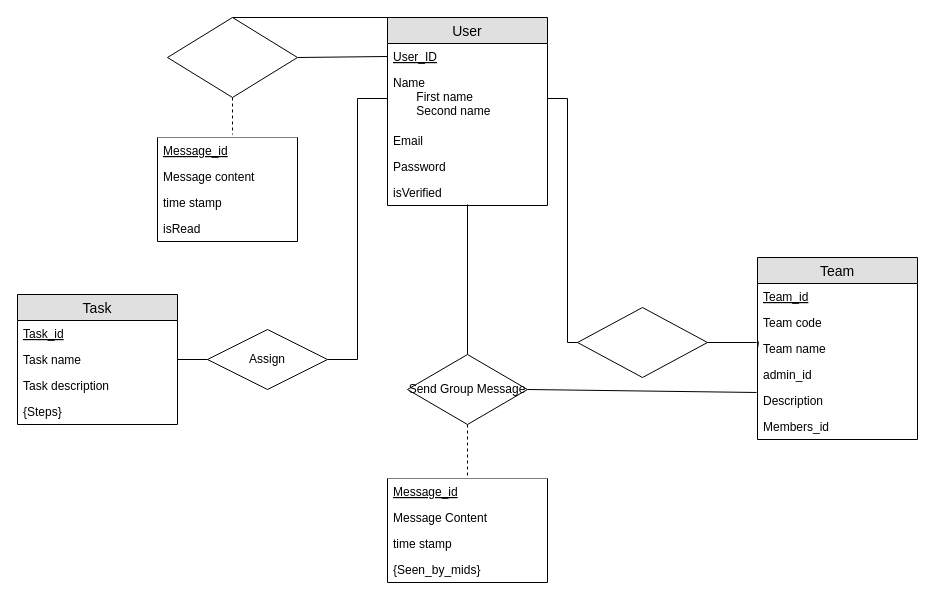
Some shapes in this 935 by 603 pixel diagram are drawn without their labels. The shapes that lost their labels are listed below. From the top down, each one's box as (x1, y1, x2, y2) in pixels, then its label:
(166, 16, 298, 98): Send PrivateMessage
(576, 306, 708, 378): is a member of
